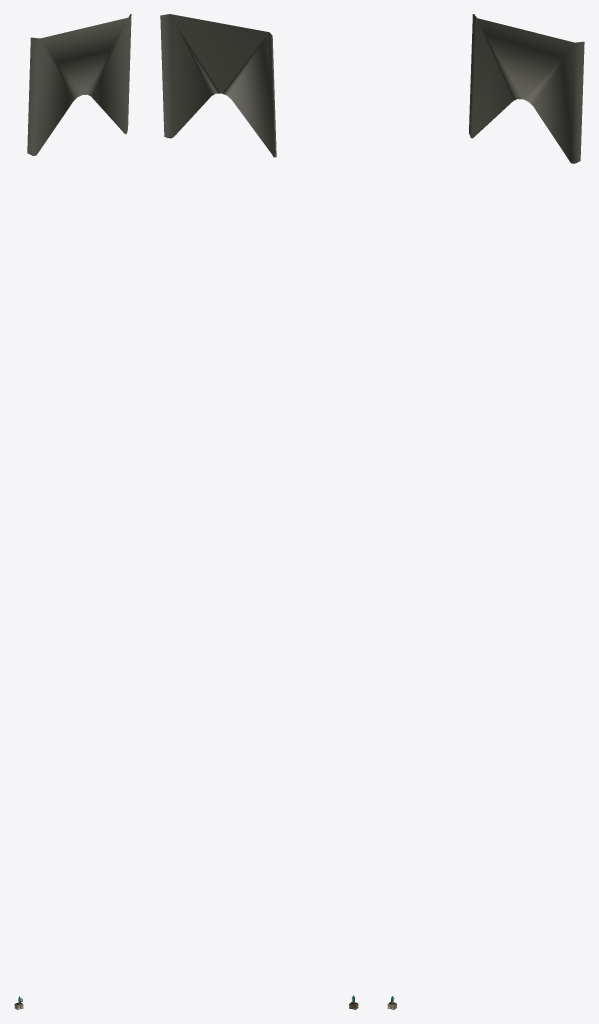
Rendered from statueArtistaForca.glb.
The picture shows the model from 3 angles, left to right: view 1: azimuth 30°, elevation 25°; view 2: azimuth 150°, elevation 25°; view 3: azimuth 330°, elevation 25°; orthographic projection. The views are drawn at different scales.
Visible parts, largest first — view 1: Object_2.002; view 2: Object_2.002; view 3: Object_2.002.
Boxes of the visible parts, x1,y1,x2,y2 form: Object_2.002: (27, 14, 131, 155); Object_2.002: (160, 14, 276, 157); Object_2.002: (469, 14, 584, 163).
Size of the model in its own units: 40.57 by 239 by 17.59.
7 materials, 4 textured.
